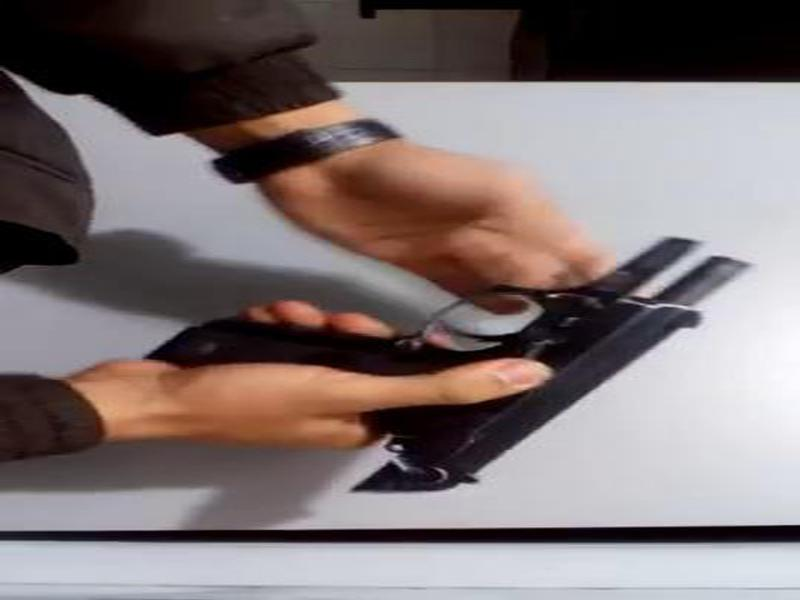Pistola: (147, 206, 754, 496)
